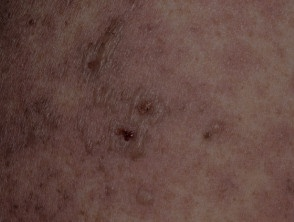SJS-TEN: (27, 0, 217, 189)
